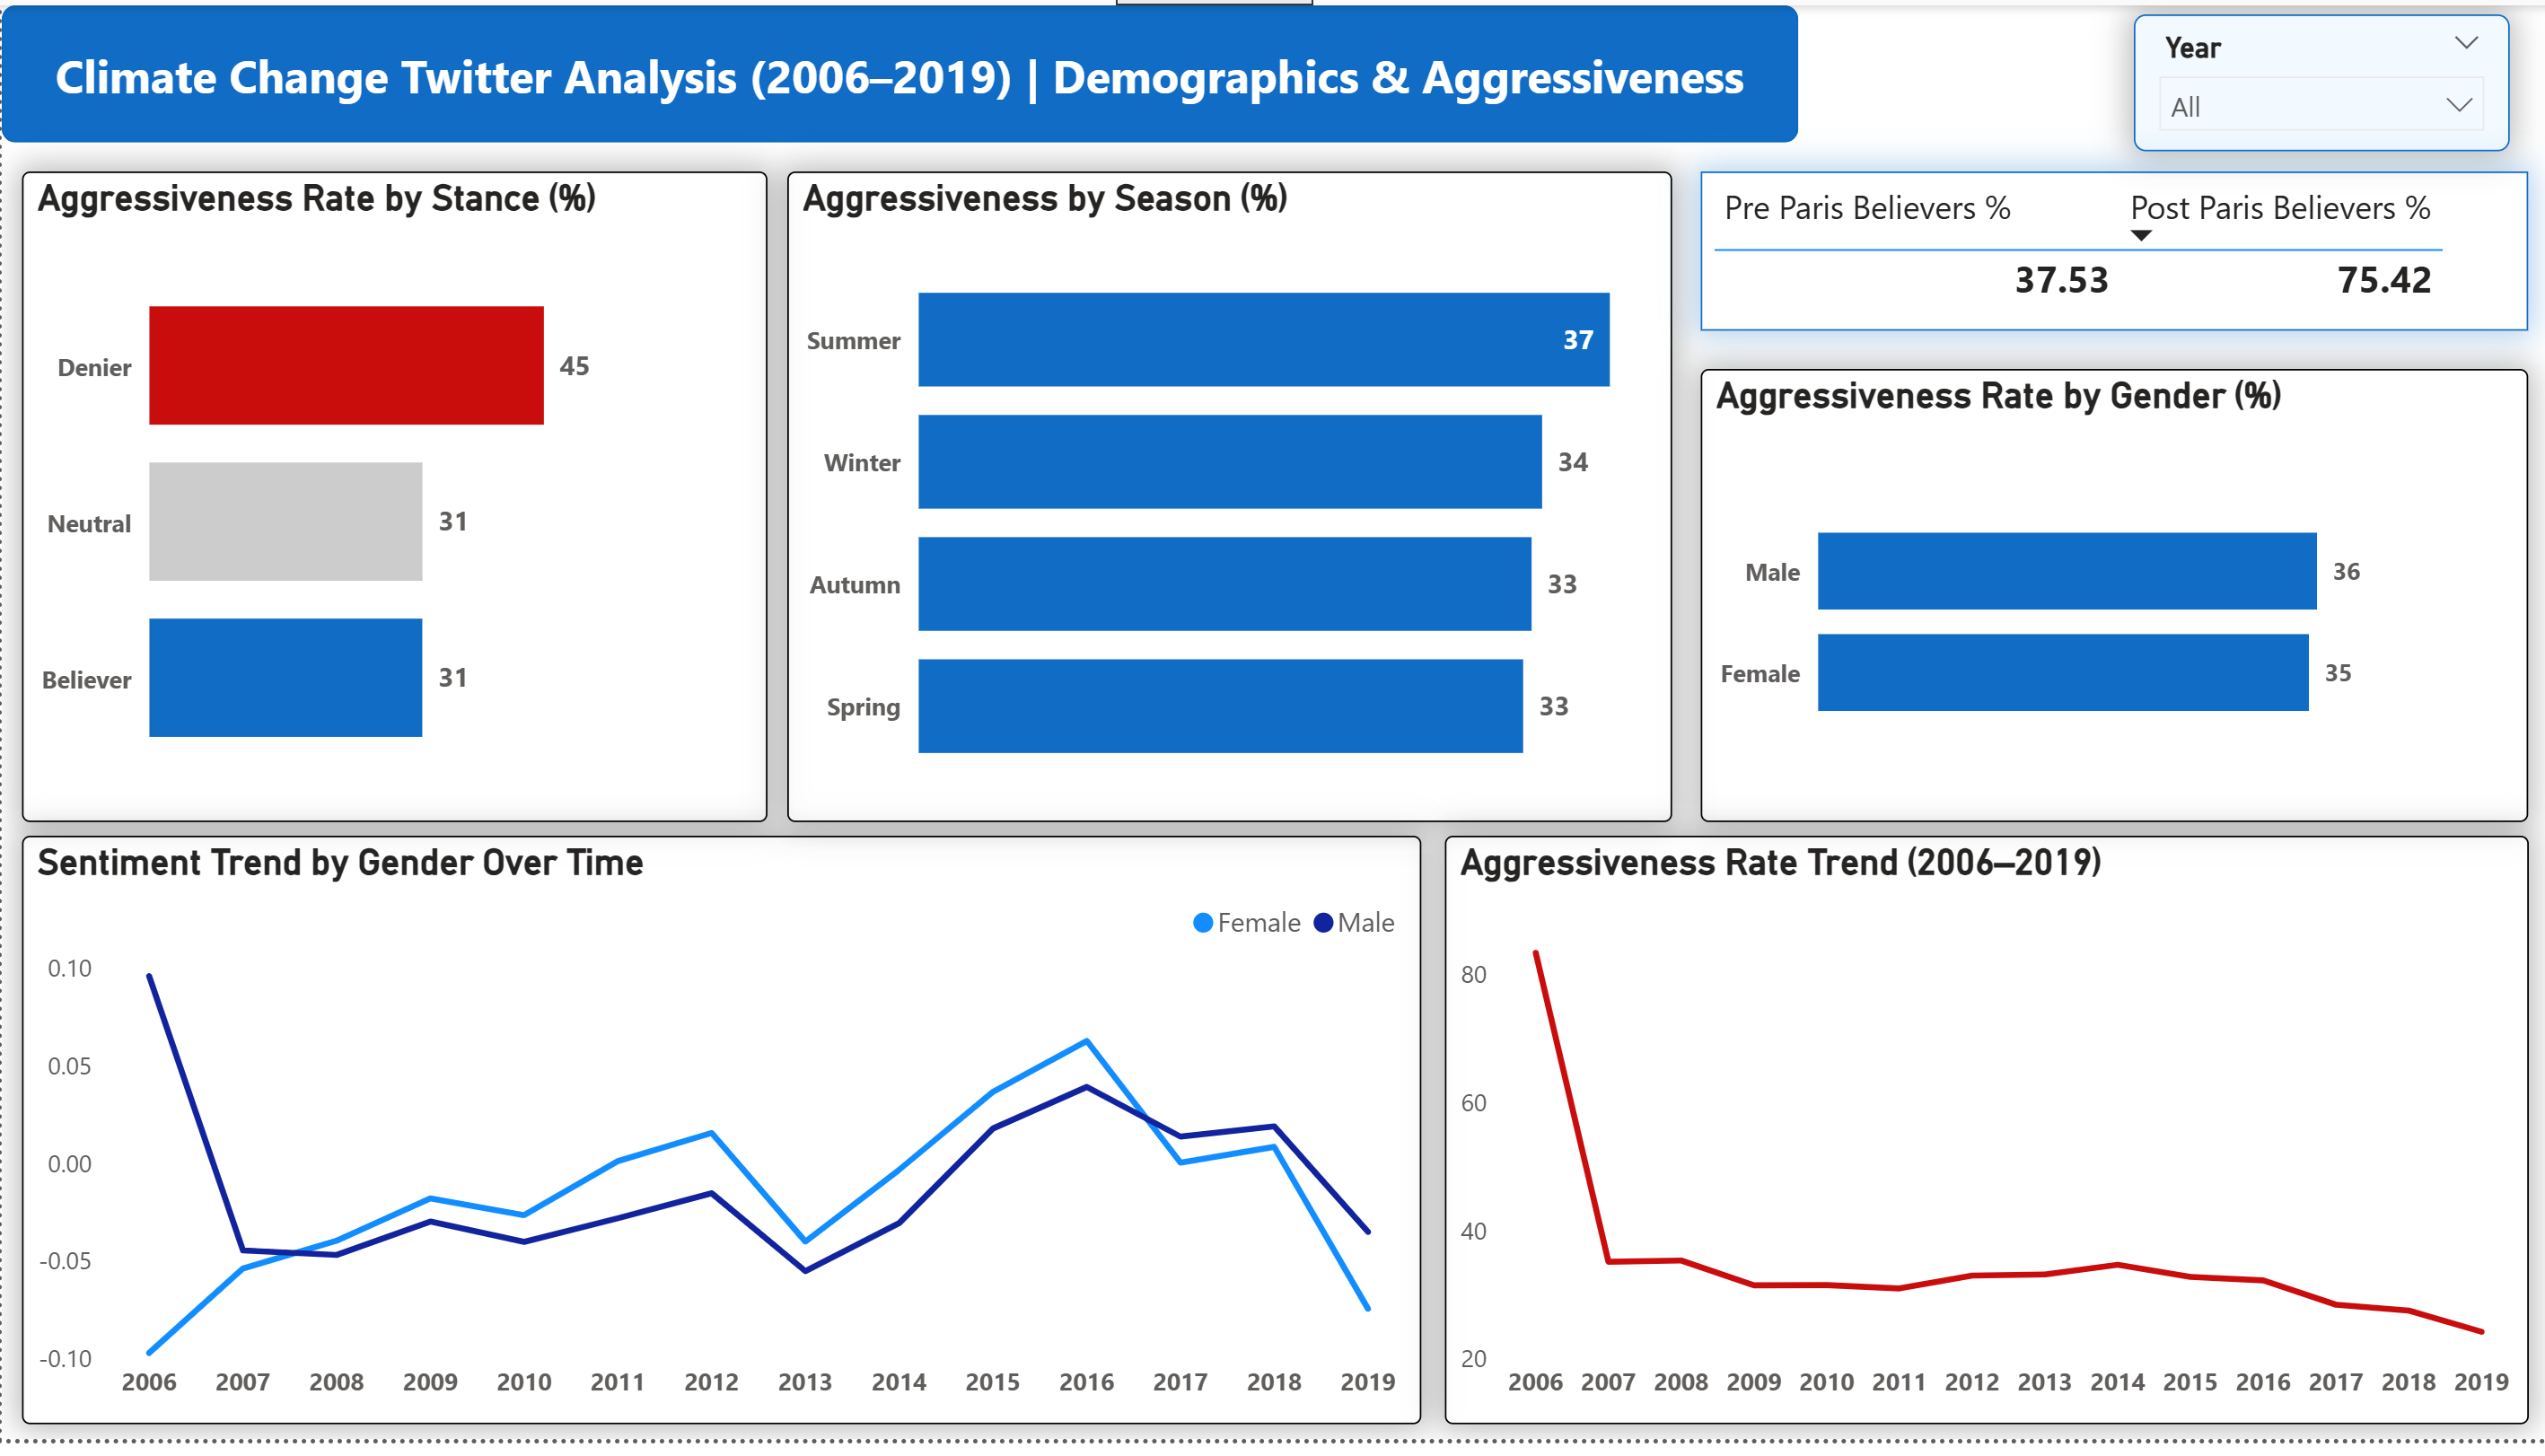

Layout of this report page (visuals, bound fields, positions):
{"tool":"powerbi","page":{"name":"Demographics & Aggressiveness","canvas":[1280,720],"ordinal":3},"visuals":[{"type":"shape","box":[0,0,902.2,68.9],"z":0},{"type":"clusteredBarChart","title":"Aggressiveness Rate by Stance (%)","fields":{"Category":["public vw_aggressiveness_analysis.stance"],"Y":["DAX Measure.Avg Aggression by Stance"]},"box":[10,83.3,374.4,326.7],"z":1000},{"type":"clusteredBarChart","title":"Aggressiveness Rate by Gender (%) ","fields":{"Y":["Avg(public vw_gender_analysis.pct_aggressive)"],"Category":["public vw_gender_analysis.gender"]},"box":[853.3,182.2,415.6,227.8],"z":2000},{"type":"lineChart","title":"Sentiment Trend by Gender Over Time","fields":{"Y":["Sum(public vw_gender_analysis.avg_sentiment)"],"Category":["public vw_gender_analysis.tweet_year"],"Series":["public vw_gender_analysis.gender"]},"box":[10,417.1,702.9,295.7],"z":3000},{"type":"barChart","title":"Aggressiveness by Season (%)","fields":{"Category":["public vw_monthly_trends.season"],"Y":["Avg(public vw_monthly_trends.pct_aggressive)"]},"box":[394.4,83.3,444.4,326.7],"z":4000},{"type":"tableEx","fields":{"Values":["DAX Measure.Pre Paris Believers %","DAX Measure.Post Paris Believers %"]},"box":[853.3,83.3,415.6,80],"z":5000},{"type":"lineChart","title":"Aggressiveness Rate Trend (2006–2019)","fields":{"Category":["public vw_yearly_trends.tweet_year"],"Y":["Sum(public vw_yearly_trends.pct_aggressive)"]},"box":[724.3,417.1,544.3,295.7],"z":6000},{"type":"slicer","fields":{"Values":["public vw_aggressiveness_analysis.tweet_year"]},"box":[1071.1,4.4,188.9,68.9],"z":7000}]}

Visuals, with their boxes in screenshot pixels (x1, y1, x2, y2), scaled from the page's 1280x720 canvas onto the 2545x1456 screenshot:
shape: 0,0,1794,139
"Aggressiveness Rate by Stance (%)" clusteredBarChart: 20,169,764,829
"Aggressiveness Rate by Gender (%) " clusteredBarChart: 1697,368,2523,829
"Sentiment Trend by Gender Over Time" lineChart: 20,844,1417,1442
"Aggressiveness by Season (%)" barChart: 785,169,1668,829
tableEx - DAX Measure.Pre Paris Believers % x DAX Measure.Post Paris Believers %: 1697,169,2523,330
"Aggressiveness Rate Trend (2006–2019)" lineChart: 1440,844,2523,1442
slicer - public vw_aggressiveness_analysis.tweet_year: 2129,9,2506,148
